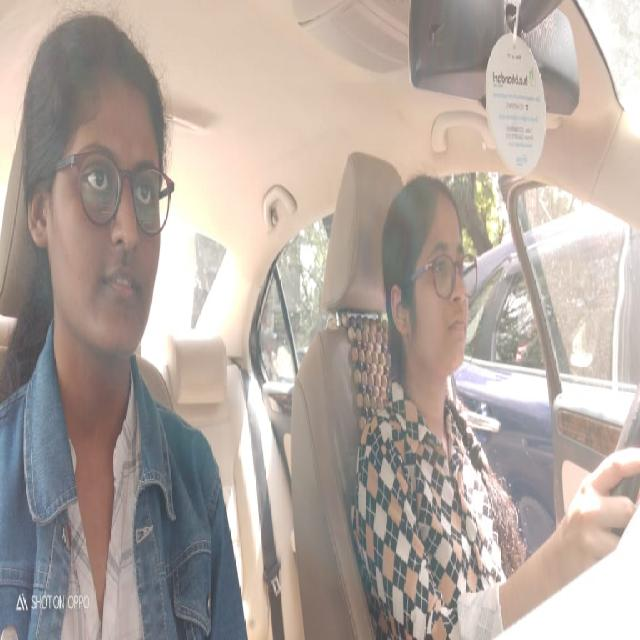person: (22, 8, 173, 363), (378, 162, 479, 393)
